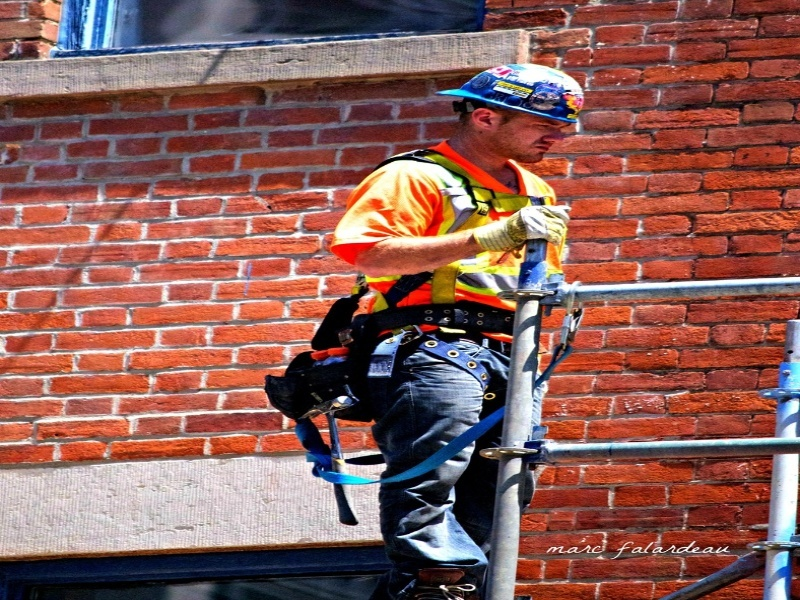Baret: (433, 63, 589, 128)
